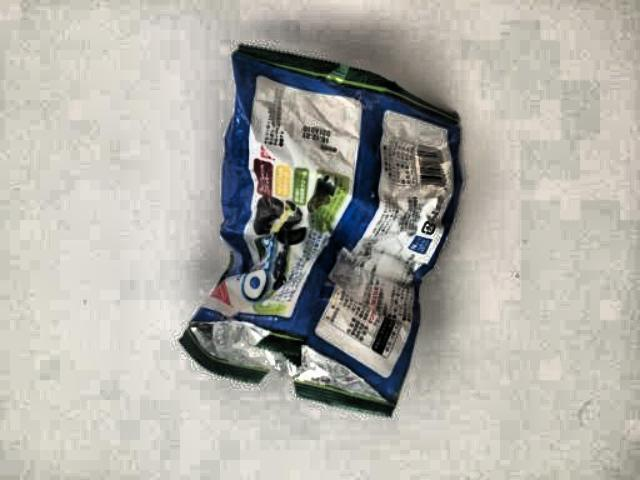Plastic: (169, 21, 474, 435)
